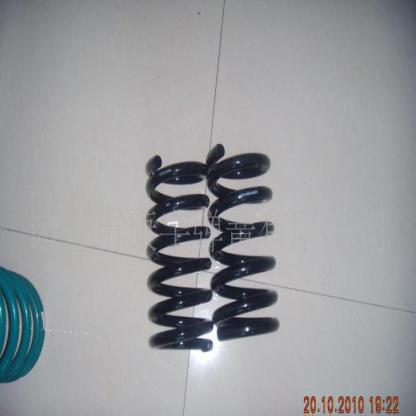FOD: (206, 139, 281, 344), (143, 151, 216, 357)
